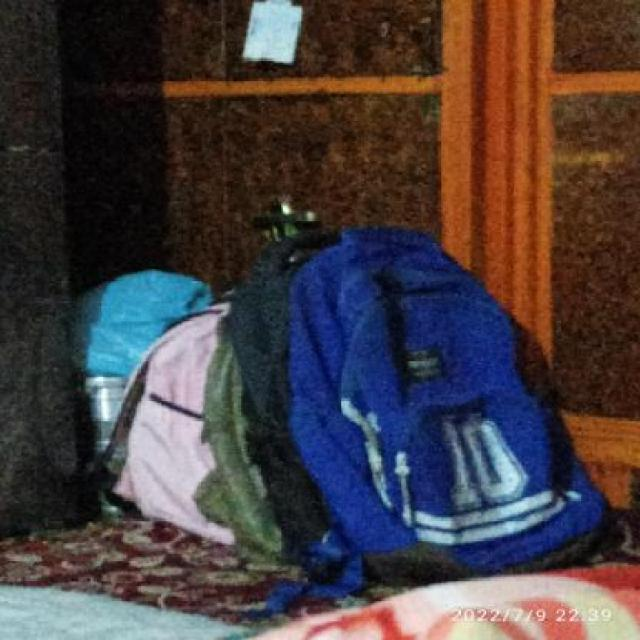backpack: (223, 198, 622, 624)
